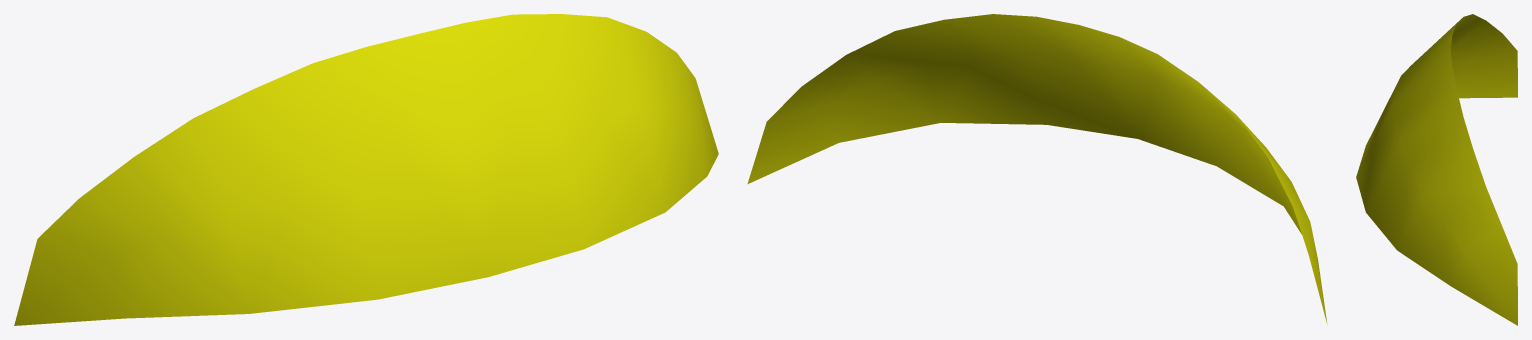
Rendered from Forehead1_39.glb.
3 views of the same model, side by side, from view 1: azimuth 30°, elevation 25°; view 2: azimuth 150°, elevation 25°; view 3: azimuth 270°, elevation 25° (orthographic). The views are drawn at different scales.
Size of the model in its own units: 48 by 15.8 by 14.37.
